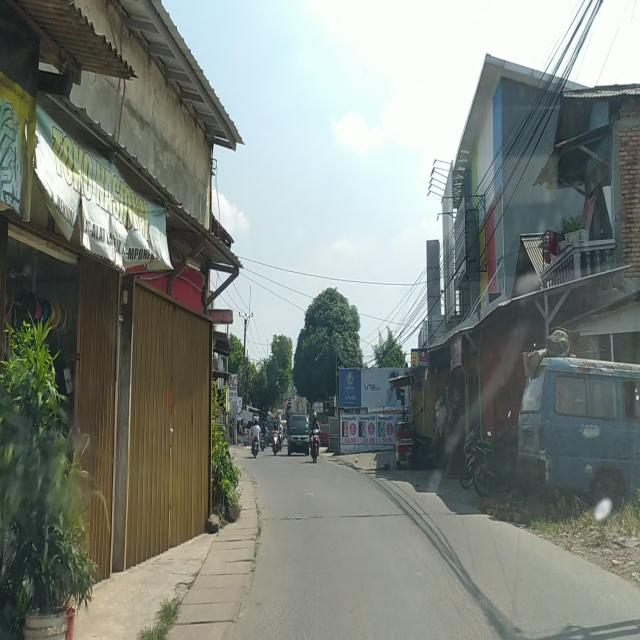Sewer Cover: (271, 515, 408, 524)
